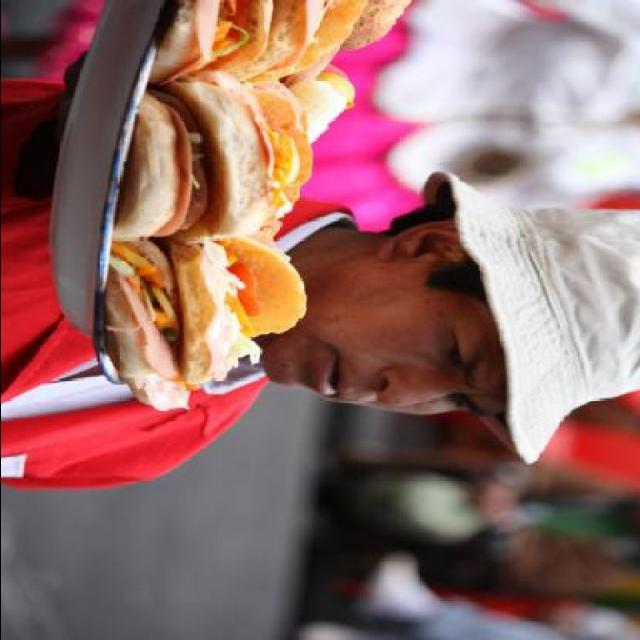Sandwich: (96, 0, 419, 412), (103, 224, 295, 353)
